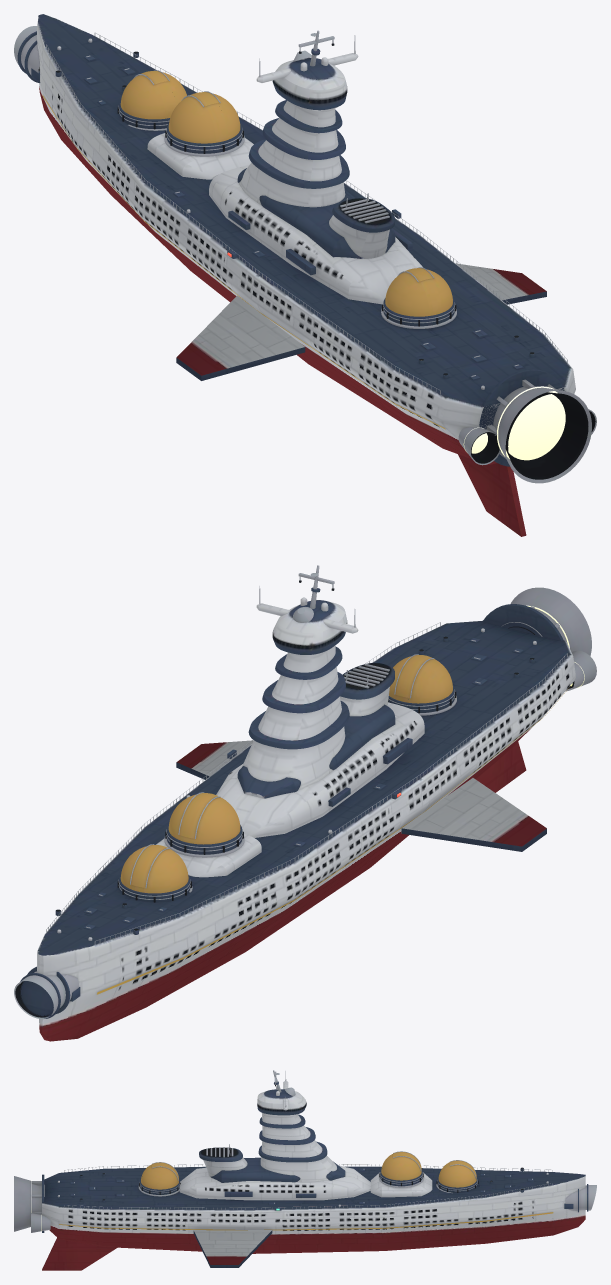
File: ship-amatsu.glb
The picture shows the model from 3 angles, top to bottom: view 1: azimuth 30°, elevation 25°; view 2: azimuth 150°, elevation 25°; view 3: azimuth 270°, elevation 25°; orthographic projection. The views are drawn at different scales.
Visible parts, largest first — view 1: Hull, Bridge, Domes, Engine, Stack, Telescope; view 2: Hull, Bridge, Domes, Engine, Telescope, Stack, Slit1, Slit0, Slit2; view 3: Hull, Bridge, Domes, Engine, Stack, Telescope.
Part boxes in pixels (x1,y1,x2,y2): Hull: [37, 14, 575, 536]; Bridge: [209, 30, 422, 304]; Domes: [117, 72, 456, 328]; Engine: [458, 369, 596, 483]; Stack: [329, 193, 394, 258]; Telescope: [14, 26, 40, 82]; Hull: [37, 620, 575, 1041]; Bridge: [216, 565, 424, 837]; Domes: [117, 656, 456, 902]; Engine: [482, 587, 596, 691]; Telescope: [14, 966, 80, 1018]; Stack: [340, 663, 394, 716]; Slit1: [178, 792, 220, 838]; Slit0: [130, 844, 169, 888]; Slit2: [394, 654, 434, 698]; Hull: [42, 1164, 585, 1270]; Bridge: [179, 1070, 370, 1200]; Domes: [138, 1154, 478, 1197]; Engine: [14, 1174, 50, 1232]; Stack: [199, 1144, 247, 1176]; Telescope: [564, 1184, 596, 1212].
Size of the model in its own units: 0.4 by 0.3923 by 1.04.
5 materials, 1 textured.
